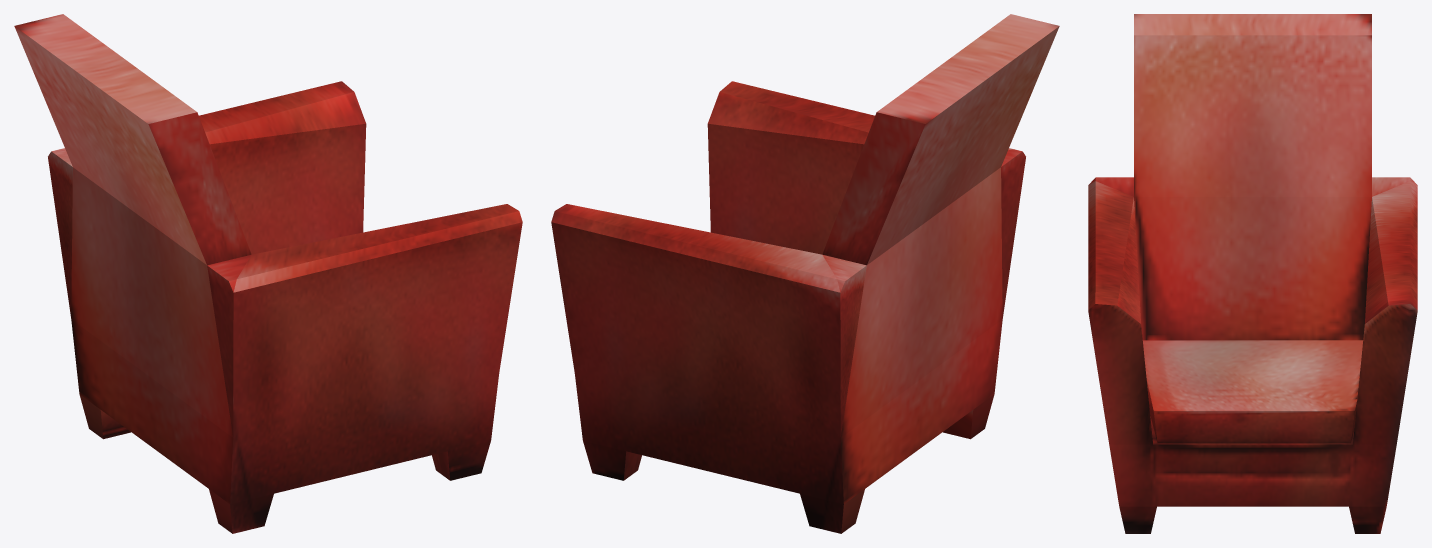
Rendered from sofa.fbx.
3 views of the same model, side by side, from view 1: azimuth 30°, elevation 25°; view 2: azimuth 150°, elevation 25°; view 3: azimuth 270°, elevation 25° (orthographic). The views are drawn at different scales.
Parts seen in each view (by area): view 1: sofa; view 2: sofa; view 3: sofa.
Part boxes in pixels (x1,y1,x2,y2): sofa: (14, 14, 522, 533); sofa: (551, 14, 1059, 533); sofa: (1088, 14, 1417, 533).
Size of the model in its own units: 159 by 184 by 146.
